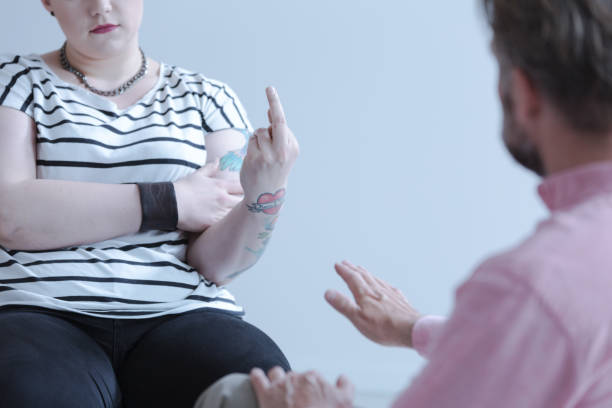insulting_gesture: (238, 85, 301, 213)
